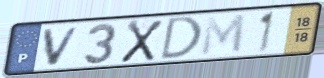1: (257, 8, 281, 55)
3: (82, 21, 118, 67)
D: (158, 15, 205, 62)
M: (198, 13, 247, 58)
V: (41, 25, 83, 68)
X: (118, 19, 166, 65)
